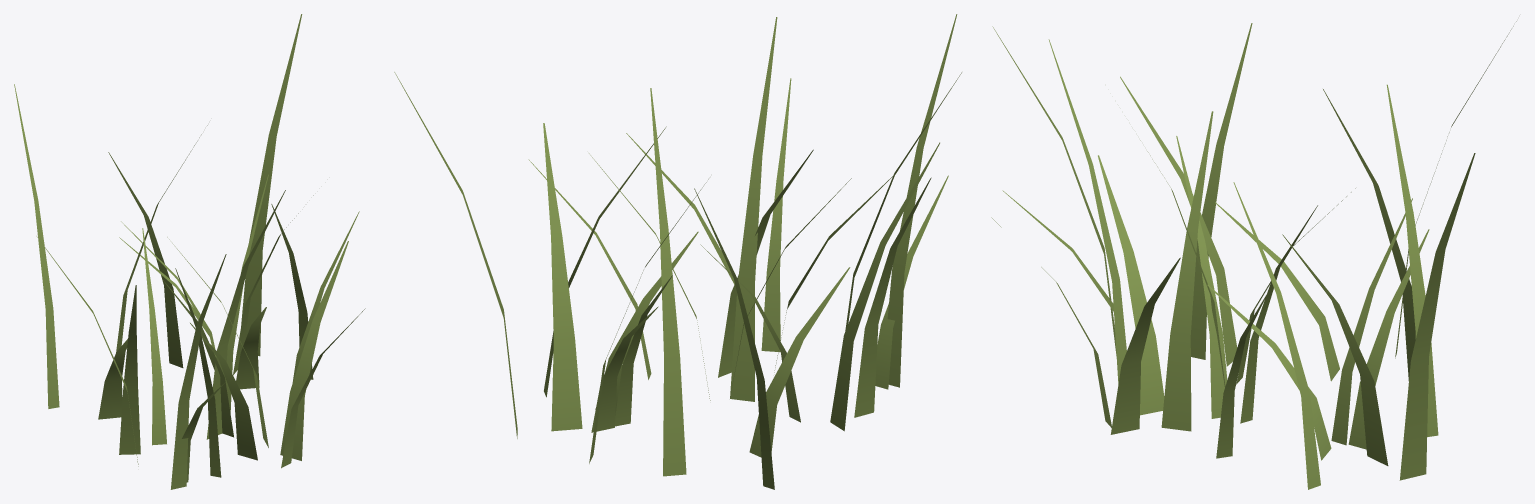
Rendered from grass.glb.
3 views of the same model, side by side, from view 1: azimuth 30°, elevation 25°; view 2: azimuth 150°, elevation 25°; view 3: azimuth 270°, elevation 25° (orthographic). The views are drawn at different scales.
Visible parts, largest first — view 1: V2 / grass source; view 2: V2 / grass source; view 3: V2 / grass source.
Part boxes in pixels (x1,y1,x2,y2): V2 / grass source: [14, 14, 365, 489]; V2 / grass source: [394, 14, 961, 489]; V2 / grass source: [991, 21, 1516, 489].
Size of the model in its own units: 0.5622 by 0.455 by 0.5892.
